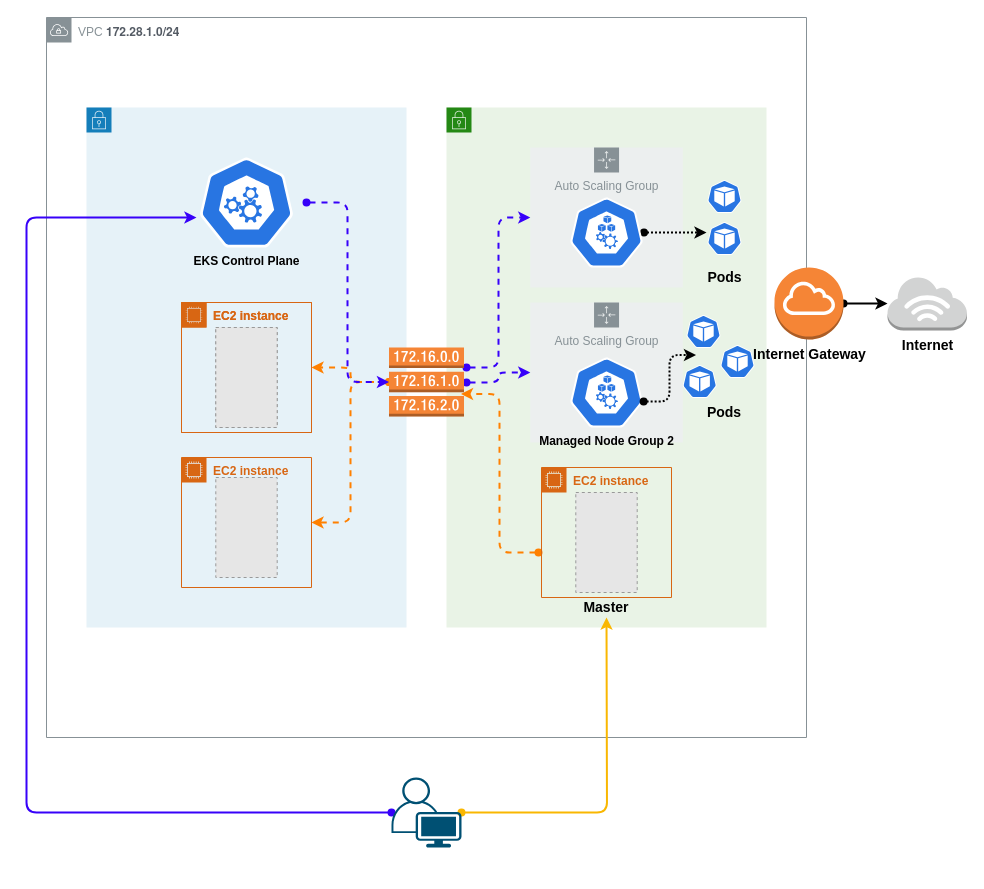
This 984x889 diagram has some shape labels left out. Grey dashed boxes stand in for pictures. Each missing label, with the box of its shape:
Managed Node Group 1: (568, 196, 644, 268)
Private subnet 172.28.1.128/26: (86, 106, 406, 628)
Public subnet 172.28.1.0/26: (446, 106, 766, 628)
Route Tables: (388, 346, 464, 416)
User: (391, 777, 461, 847)
